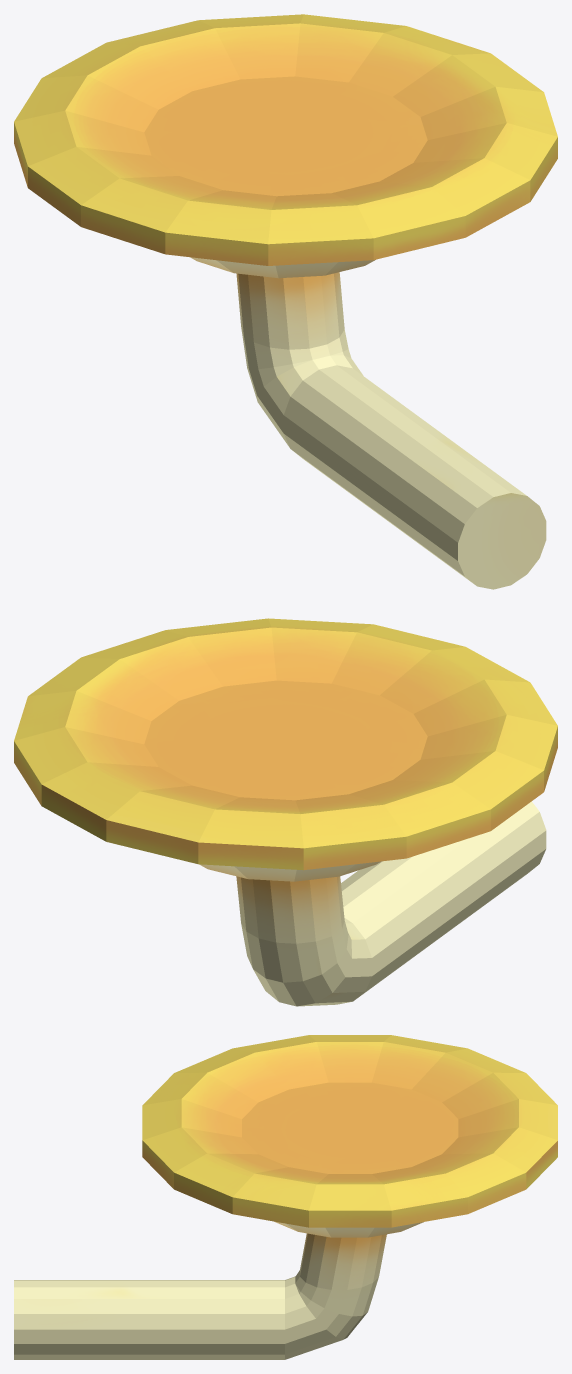
Rendered from oyster shrooms sin.fbx.
3 views of the same model, one above another, from view 1: azimuth 30°, elevation 25°; view 2: azimuth 150°, elevation 25°; view 3: azimuth 270°, elevation 25° (orthographic). The views are drawn at different scales.
Parts seen in each view (by area): view 1: Cylinder.001; view 2: Cylinder.001; view 3: Cylinder.001.
Part boxes in pixels (x1,y1,x2,y2): Cylinder.001: [14, 14, 557, 589]; Cylinder.001: [14, 618, 557, 1006]; Cylinder.001: [14, 1035, 557, 1359].
Bounding box in the file's own units: 145 × 93.23 × 189.
1 material, 1 textured.
